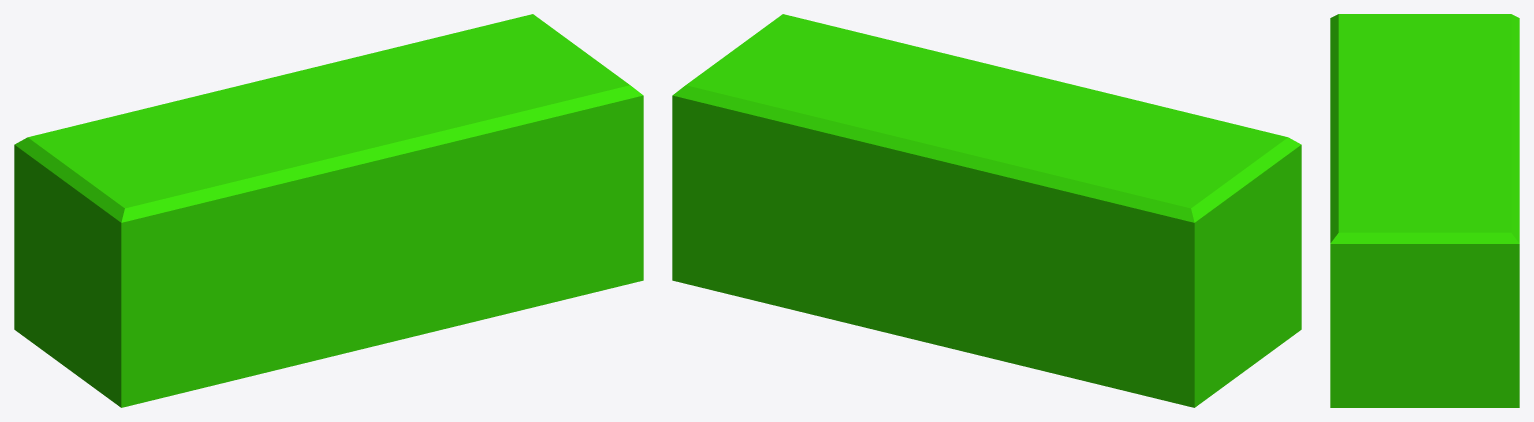
The model's file is basic_3x1.fbx.
3 views of the same model, side by side, from view 1: azimuth 30°, elevation 25°; view 2: azimuth 150°, elevation 25°; view 3: azimuth 270°, elevation 25° (orthographic). The views are drawn at different scales.
Parts seen in each view (by area): view 1: basic_3x1; view 2: basic_3x1; view 3: basic_3x1.
Part boxes in pixels (bbox=[...]): basic_3x1: bbox=[14, 14, 643, 407]; basic_3x1: bbox=[672, 14, 1301, 407]; basic_3x1: bbox=[1330, 14, 1519, 407].
Bounding box in the file's own units: 310 × 110 × 110.
